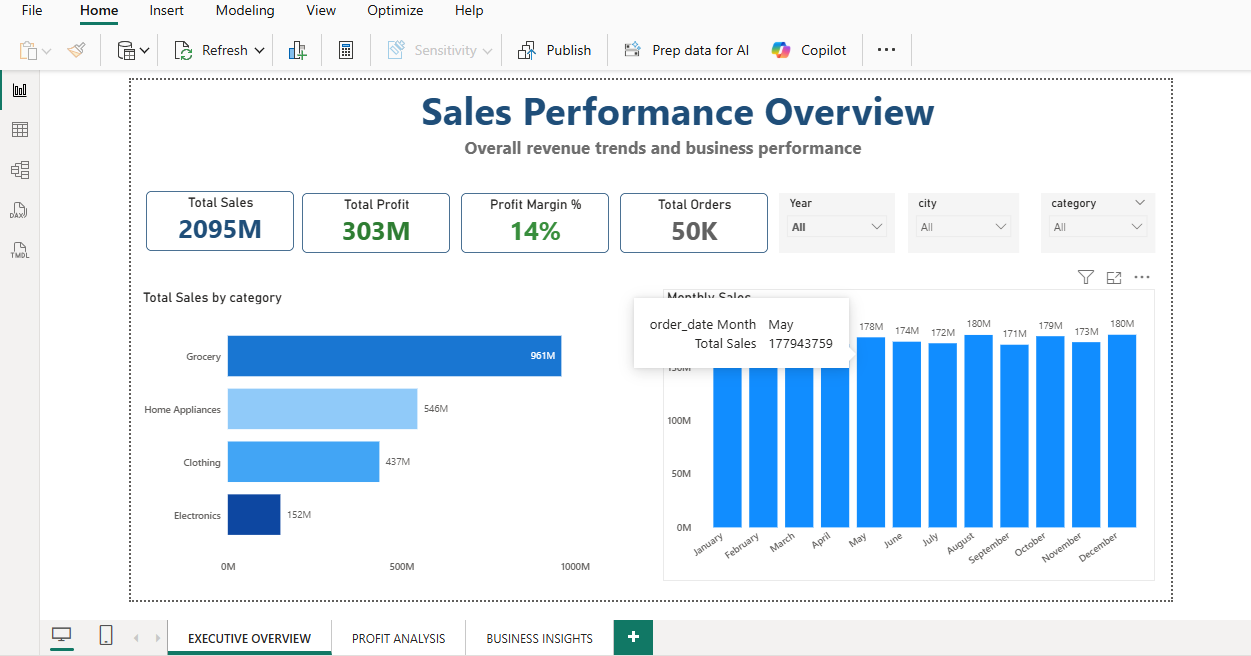

This screenshot's page, from the dashboard's own definition file:
{"tool":"powerbi","page":{"name":"EXECUTIVE OVERVIEW","canvas":[1300,650],"ordinal":0},"visuals":[{"type":"card","fields":{"Values":["orders.Total Orders"]},"box":[1280,178.3,458.3,166.7],"z":0},{"type":"columnChart","title":"Monthly Sales","fields":{"Category":["orders.order_date.Variation.Date Hierarchy.Month"],"Y":["orders.Total Sales"]},"box":[665,261.2,615,365],"z":1000},{"type":"barChart","fields":{"Category":["products.category"],"Y":["orders.Total Sales"]},"box":[10,261.2,587.5,365],"z":2000},{"type":"card","fields":{"Values":["orders.Total Orders"]},"box":[1290,188.3,458.3,166.7],"z":3000},{"type":"card","fields":{"Values":["orders.Total Orders"]},"box":[1280,213.3,458.3,166.7],"z":4000},{"type":"textbox","title":"Sales Performance Overview","box":[257.5,3.8,852.5,66.2],"z":6000},{"type":"textbox","title":"Overall revenue trends and business performance","box":[388.8,70,552.5,31.2],"z":7000},{"type":"card","title":"Total Sales","fields":{"Values":["orders.Total Sales"]},"box":[18.8,138.8,185,75],"z":8000},{"type":"card","title":"Total Orders","fields":{"Values":["orders.Total Orders"]},"box":[611.2,141.2,185,75],"z":9000},{"type":"card","title":"Profit Margin %","fields":{"Values":["orders.Profit Margin %"]},"box":[412.5,141.2,185,75],"z":10000},{"type":"card","title":"Total Profit","fields":{"Values":["orders.Total Profit"]},"box":[213.8,141.2,185,75],"z":11000},{"type":"slicer","fields":{"Values":["orders.order_date.Variation.Date Hierarchy.Year"]},"box":[810,141.2,145,75],"z":12000},{"type":"slicer","fields":{"Values":["products.category"]},"box":[1137.5,141.2,142.5,75],"z":13000},{"type":"slicer","fields":{"Values":["stores.city"]},"box":[971.2,141.2,138.8,75],"z":14000}]}

Visuals, with their boxes on the page's 1300x650 design canvas (x1, y1, x2, y2). These are canvas units, not pixel positions in the 1251x656 screenshot, which may show the page scaled, cropped or inside an application window:
card - orders.Total Orders: bbox=[1280, 178, 1738, 345]
"Monthly Sales" columnChart: bbox=[665, 261, 1280, 626]
barChart - products.category x orders.Total Sales: bbox=[10, 261, 598, 626]
card - orders.Total Orders: bbox=[1290, 188, 1748, 355]
card - orders.Total Orders: bbox=[1280, 213, 1738, 380]
"Sales Performance Overview" textbox: bbox=[258, 4, 1110, 70]
"Overall revenue trends and business performance" textbox: bbox=[389, 70, 941, 101]
"Total Sales" card: bbox=[19, 139, 204, 214]
"Total Orders" card: bbox=[611, 141, 796, 216]
"Profit Margin %" card: bbox=[412, 141, 598, 216]
"Total Profit" card: bbox=[214, 141, 399, 216]
slicer - orders.order_date.Variation.Date Hierarchy.Year: bbox=[810, 141, 955, 216]
slicer - products.category: bbox=[1138, 141, 1280, 216]
slicer - stores.city: bbox=[971, 141, 1110, 216]
